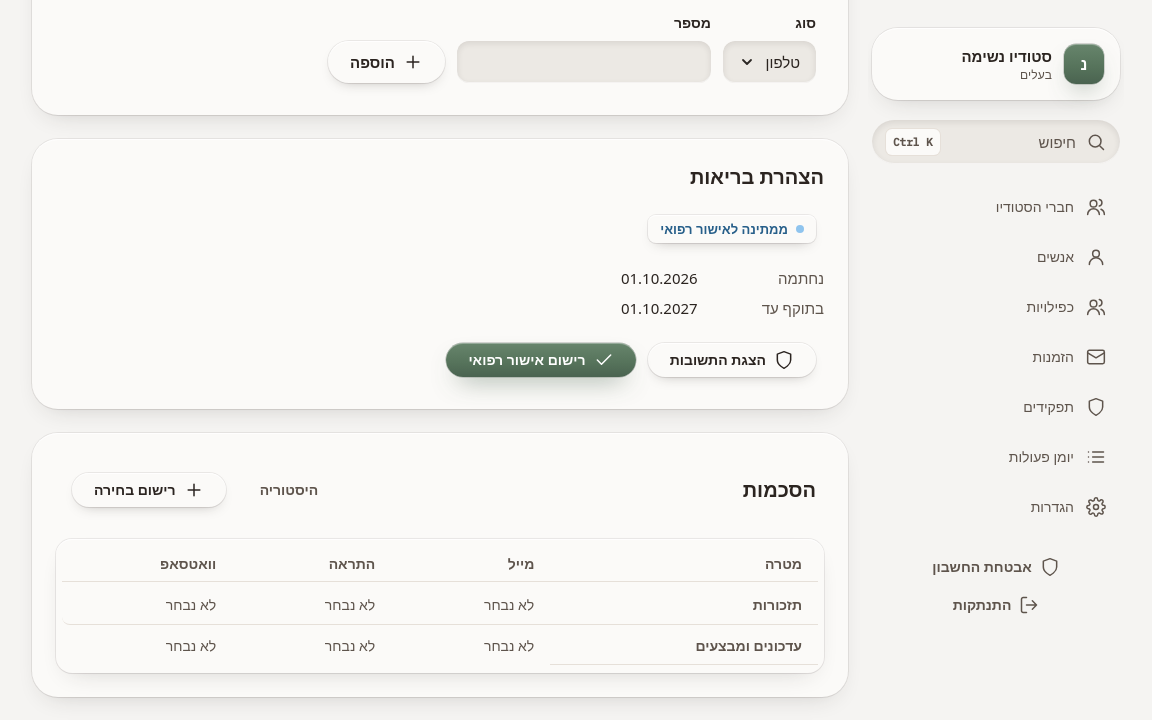
Test: the person card's health declaration (docs/31 sections 5 and 13) › records a medical approval: the date is the studio's today by default, a future one is refused
The image size is (1152, 720).
(page scrolled)
Click the button "רישום אישור רפואי" at coordinates (541, 360), box top-left (446, 343), bottom-right (636, 377)
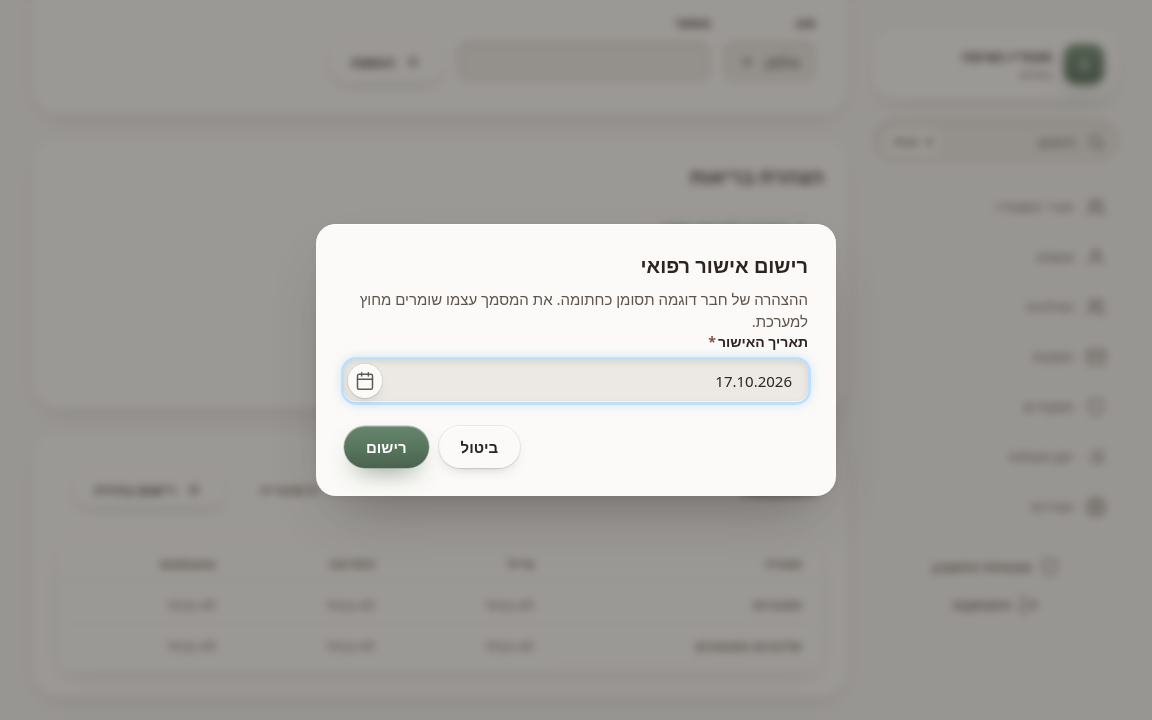
Expected: the field labelled "תאריך האישור*" holds "17.10.2026"
Replace the text in the field labelled "תאריך האישור*" with "18.10.2026" at coordinates (576, 381), box top-left (344, 360), bottom-right (808, 402)
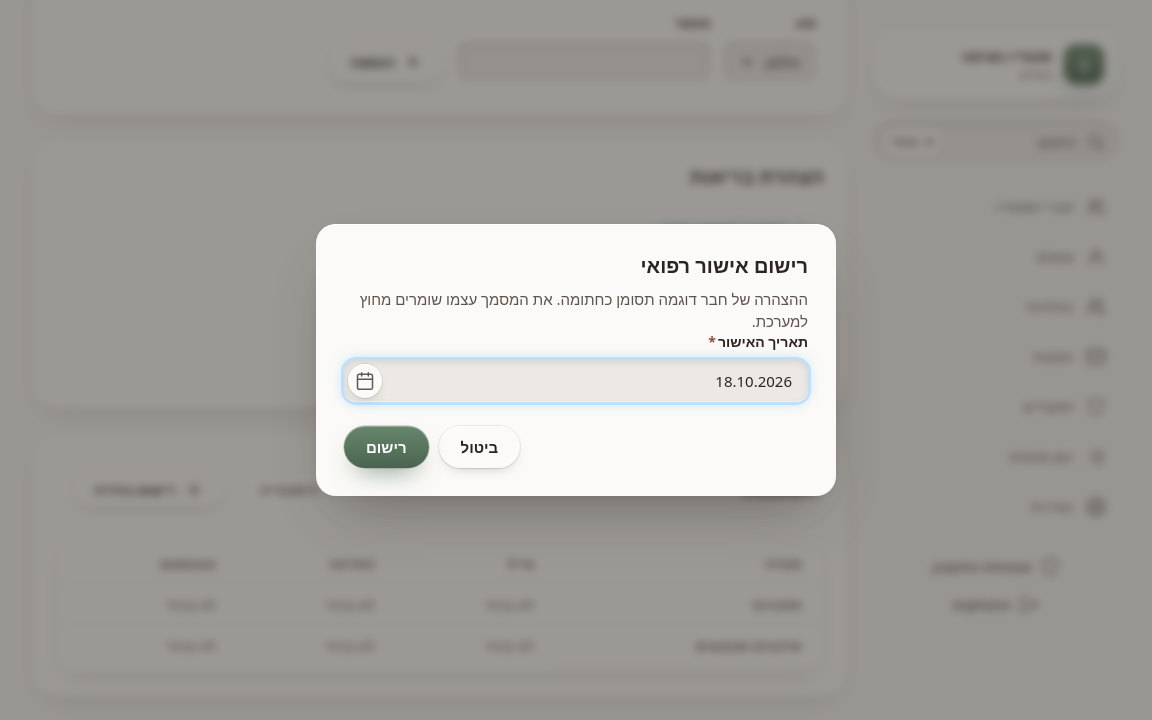
Click the button "רישום" at coordinates (386, 447), box top-left (344, 426), bottom-right (429, 468)
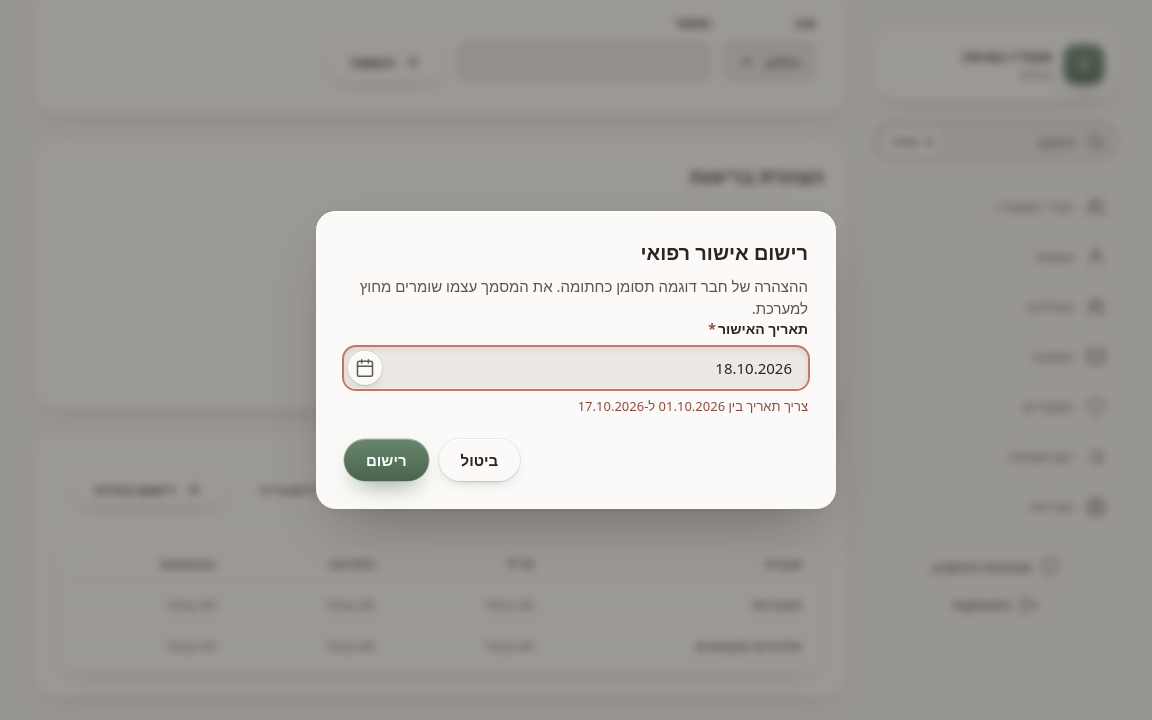
Replace the text in the field labelled "תאריך האישור*" with "16.10.2026" at coordinates (576, 368), box top-left (344, 347), bottom-right (808, 389)
(page scrolled)
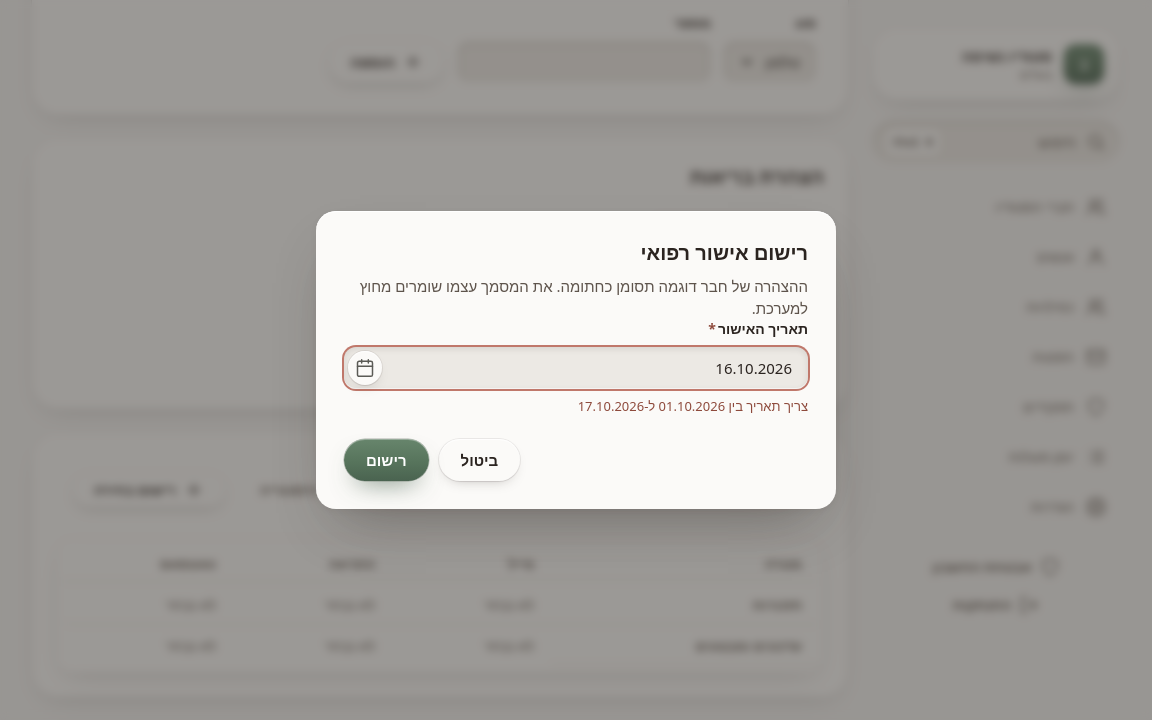
Click the button "רישום" at coordinates (386, 460), box top-left (344, 439), bottom-right (429, 481)
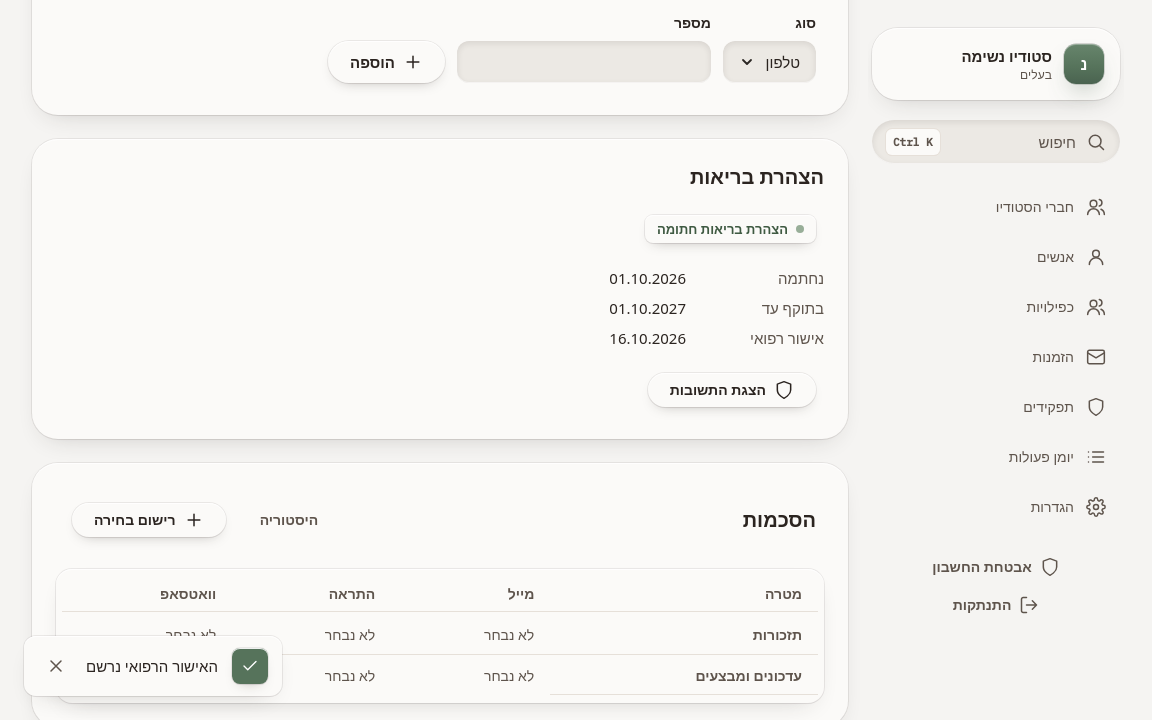
Expected: the text "האישור הרפואי נרשם" is shown, top-left (86, 655), bottom-right (218, 677)
Expected: the text "הצהרת בריאות חתומה" is shown, top-left (645, 215), bottom-right (816, 243)
